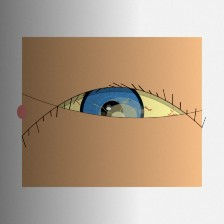corneal_ulcer: (97, 96, 147, 136)
